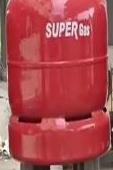cylinder: (1, 0, 113, 170)
